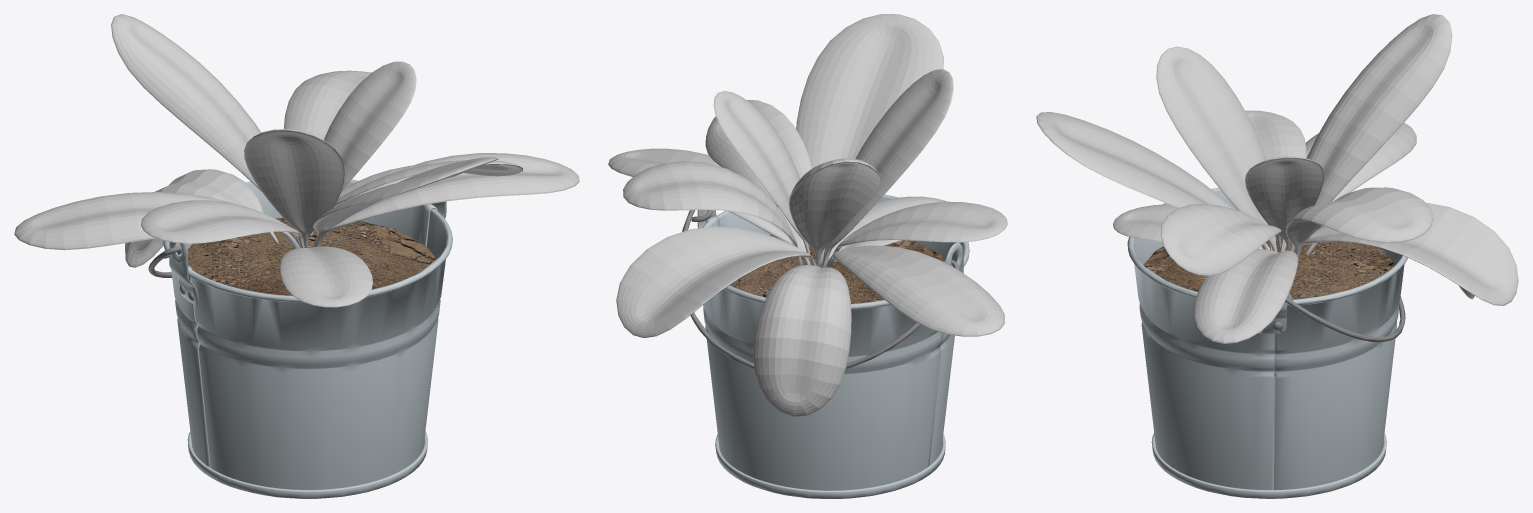
Rendered from Plant 10.FBX.
The picture shows the model from 3 angles, left to right: view 1: azimuth 30°, elevation 25°; view 2: azimuth 150°, elevation 25°; view 3: azimuth 270°, elevation 25°; orthographic projection. The views are drawn at different scales.
Visible parts, largest first — view 1: Plant 10; view 2: Plant 10; view 3: Plant 10.
Boxes of the visible parts, <box> form: Plant 10: <box>14,14,579,498</box>; Plant 10: <box>608,14,1007,498</box>; Plant 10: <box>1036,14,1518,498</box>.
Size of the model in its own units: 29.96 by 26.62 by 23.44.
